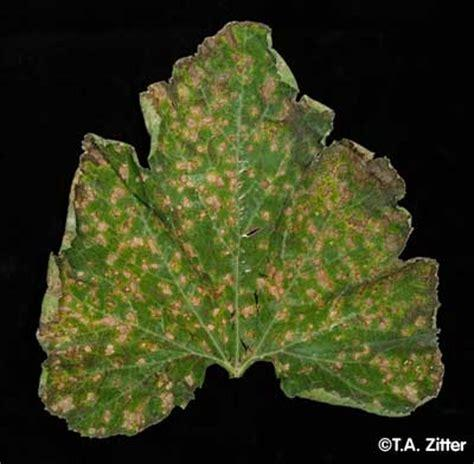black-spot: (250, 166, 307, 249), (122, 277, 192, 341)
